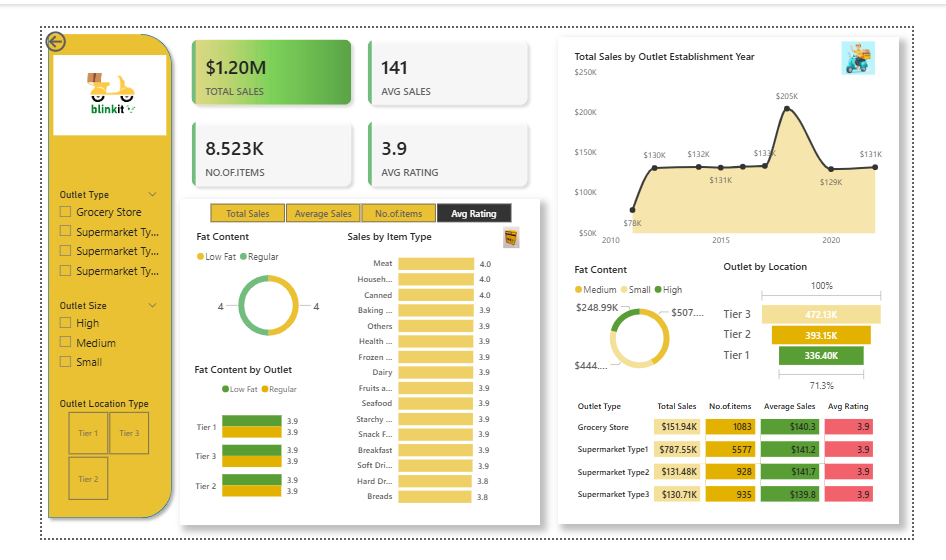

The dashboard page shown, as its layout file describes it:
{"tool":"powerbi","page":{"name":"Page 1","canvas":[1280,750],"ordinal":0},"visuals":[{"type":"shape","box":[0,0,200,730],"z":0},{"type":"textbox","box":[21.3,42.6,178.7,82],"z":1000},{"type":"textbox","box":[25.8,98,337.1,82.8],"z":2000},{"type":"actionButton","box":[0,0,100,40],"z":3000},{"type":"cardVisual","fields":{"Data":["BlinkIT Grocery Data.Total Sales","BlinkIT Grocery Data.Average Sales","BlinkIT Grocery Data.No.of.items","BlinkIT Grocery Data.Avg Rating"]},"box":[203.3,0,528.3,251.7],"z":4000},{"type":"clusteredBarChart","title":"Fat Content by Outlet","fields":{"Y":["BlinkIT Grocery Data.Avg Rating"],"Category":["BlinkIT Grocery Data.Outlet Location Type"],"Series":["BlinkIT Grocery Data.Item Fat Content"]},"box":[218.9,491.3,205.1,221.9],"z":5000},{"type":"shape","box":[202.9,251.4,528.6,478.6],"z":8000},{"type":"slicer","fields":{"Values":["metrics.metrics"]},"box":[221.7,251.7,491.7,40],"z":9000},{"type":"donutChart","title":" Fat Content","fields":{"Y":["BlinkIT Grocery Data.Avg Rating"],"Category":["BlinkIT Grocery Data.Item Fat Content"]},"box":[221.9,295.4,221.9,176],"z":10000},{"type":"barChart","title":"Sales by Item Type","fields":{"Category":["BlinkIT Grocery Data.Item Type"],"Y":["BlinkIT Grocery Data.Avg Rating"]},"box":[444.3,295.7,268.6,417.1],"z":11001},{"type":"shape","box":[759.2,13.8,502,716.3],"z":11002},{"type":"lineChart","fields":{"Y":["BlinkIT Grocery Data.Total Sales"],"Category":["BlinkIT Grocery Data.Outlet Establishment Year"]},"box":[777.6,30.6,465.3,300],"z":11003},{"type":"donutChart","title":" Fat Content","fields":{"Y":["BlinkIT Grocery Data.Total Sales"],"Category":["BlinkIT Grocery Data.Outlet Size"]},"box":[777.6,344.4,202,176],"z":11004},{"type":"funnel","title":" Outlet by Location ","fields":{"Y":["Sum(BlinkIT Grocery Data.Sales)"],"Category":["BlinkIT Grocery Data.Outlet Location Type"]},"box":[996.4,339.8,246.4,200.5],"z":11005},{"type":"pivotTable","fields":{"Values":["BlinkIT Grocery Data.Total Sales","BlinkIT Grocery Data.No.of.items","BlinkIT Grocery Data.Average Sales","BlinkIT Grocery Data.Avg Rating"],"Rows":["BlinkIT Grocery Data.Outlet Type"]},"box":[777.6,540.3,483.7,176],"z":11006},{"type":"slicer","fields":{"Values":["BlinkIT Grocery Data.Outlet Type"]},"box":[13.8,232.7,168.4,151.5],"z":11007},{"type":"slicer","fields":{"Values":["BlinkIT Grocery Data.Outlet Size"]},"box":[13.8,394.9,168.4,131.6],"z":11008},{"type":"slicer","fields":{"Values":["BlinkIT Grocery Data.Outlet Location Type"]},"box":[13.8,540.3,168.4,160.7],"z":11009},{"type":"image","box":[1155.9,14.7,88.2,58.8],"z":11010},{"type":"image","box":[666.2,286.2,47.7,41.5],"z":11011},{"type":"image","box":[11.4,8.6,175.7,180],"z":11013}]}

Visuals, with their boxes in screenshot pixels (x1, y1, x2, y2):
shape: bbox=(27, 22, 168, 535)
textbox: bbox=(42, 52, 168, 110)
textbox: bbox=(45, 91, 282, 149)
actionButton: bbox=(27, 22, 97, 50)
cardVisual - BlinkIT Grocery Data.Total Sales x BlinkIT Grocery Data.Average Sales: bbox=(170, 22, 541, 199)
"Fat Content by Outlet" clusteredBarChart: bbox=(181, 368, 325, 524)
shape: bbox=(170, 199, 541, 535)
slicer - metrics.metrics: bbox=(183, 199, 529, 227)
" Fat Content" donutChart: bbox=(183, 230, 339, 354)
"Sales by Item Type" barChart: bbox=(339, 230, 528, 523)
shape: bbox=(561, 32, 914, 535)
lineChart - BlinkIT Grocery Data.Total Sales x BlinkIT Grocery Data.Outlet Establishment Year: bbox=(574, 44, 901, 255)
" Fat Content" donutChart: bbox=(574, 264, 716, 388)
" Outlet by Location " funnel: bbox=(728, 261, 901, 402)
pivotTable - BlinkIT Grocery Data.Total Sales x BlinkIT Grocery Data.No.of.items: bbox=(574, 402, 914, 526)
slicer - BlinkIT Grocery Data.Outlet Type: bbox=(37, 186, 155, 292)
slicer - BlinkIT Grocery Data.Outlet Size: bbox=(37, 300, 155, 392)
slicer - BlinkIT Grocery Data.Outlet Location Type: bbox=(37, 402, 155, 515)
image: bbox=(840, 33, 902, 74)
image: bbox=(495, 223, 529, 253)
image: bbox=(35, 28, 159, 155)
